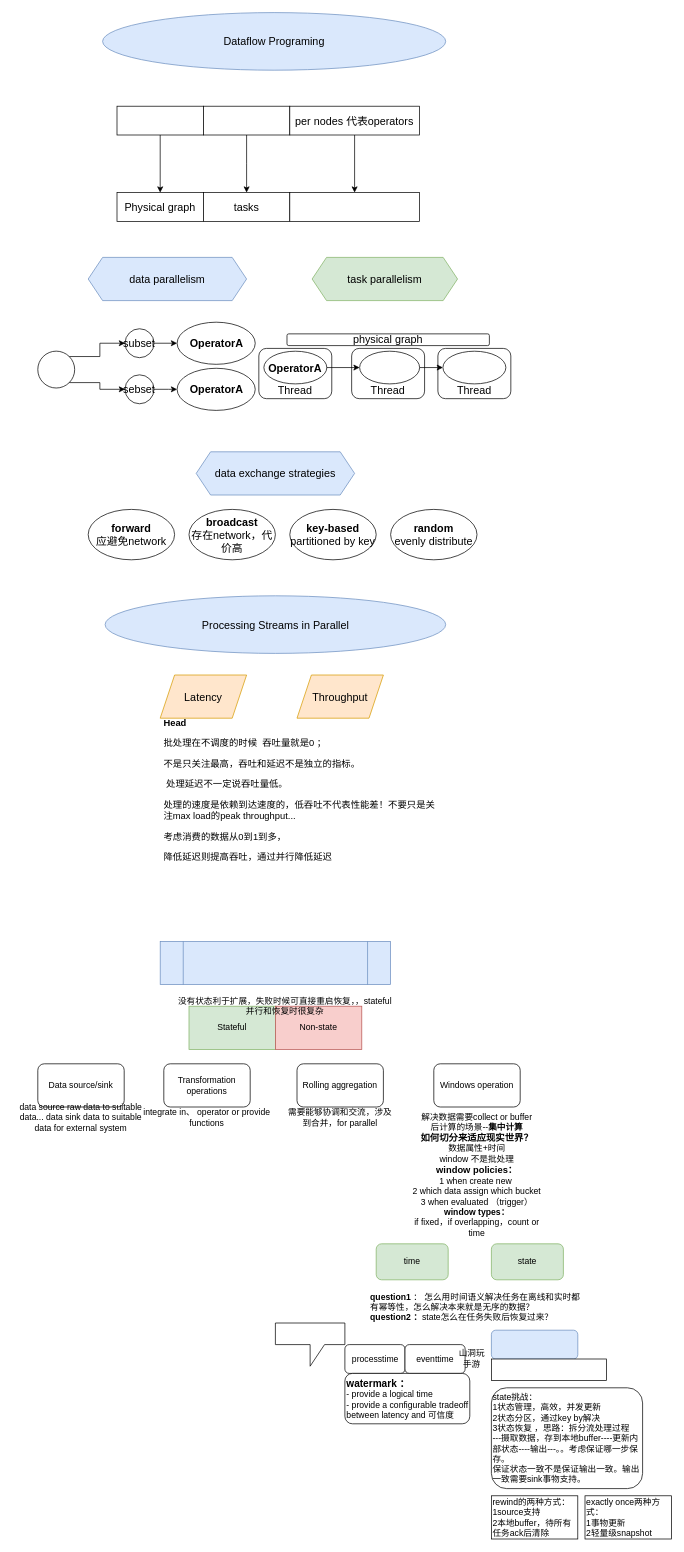
This 684x1552 diagram has some shape labels left out. Each missing label, with the centre of its shape:
"Data" belongs at (56,369).
"Dataflow graph" belongs at (159,120).
"logic" belongs at (246,120).
"more faster period fixed time" belongs at (310,1344).
"Operations On Data Streams" belongs at (275,963).
"OperatorB" belongs at (389,367).
"OperatorC" belongs at (474,367).
"per nodes 代表tasks" belongs at (354,206).
"state(流处理第一公民)用处： 1 计算聚合 2 detect pattern" belongs at (549,1369).
"state和一致性模型" belongs at (534,1344).
